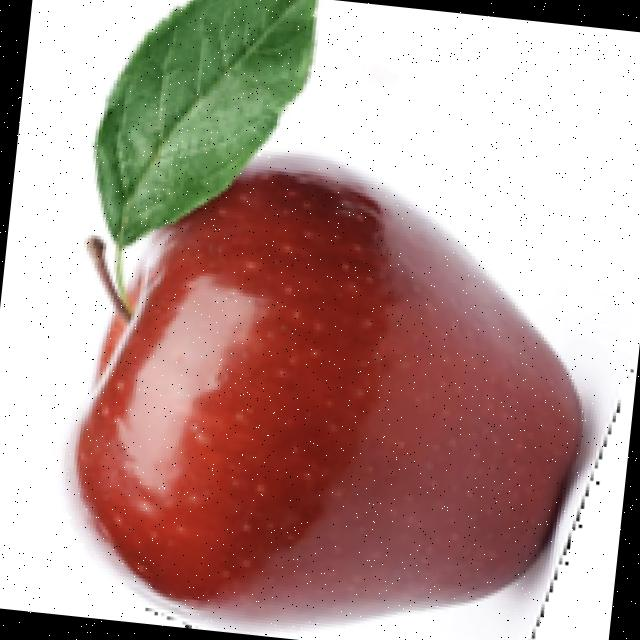apple: (56, 0, 634, 640)
